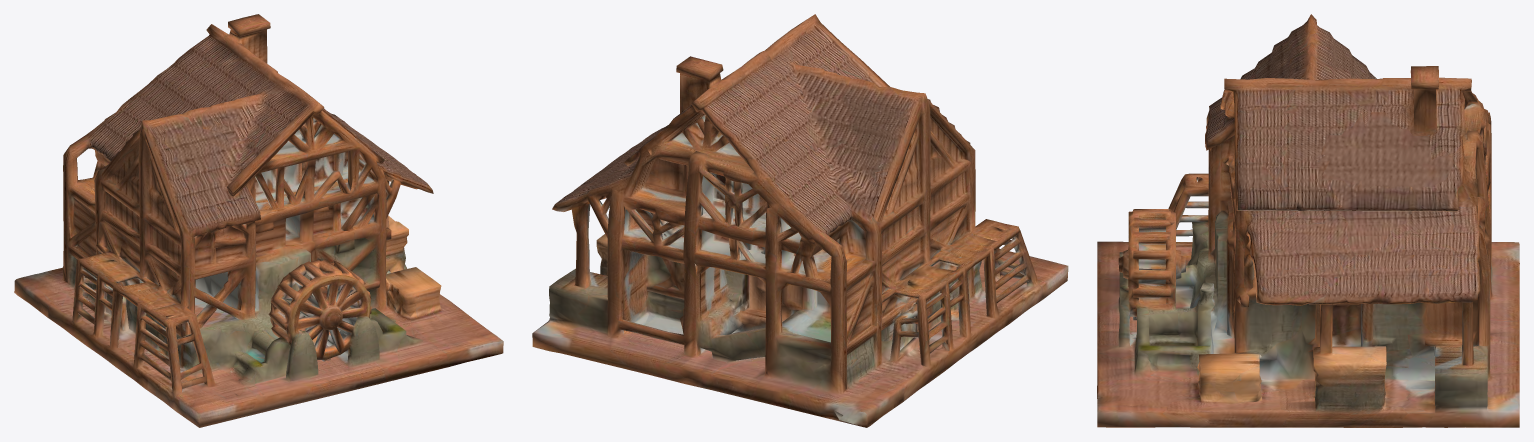
Rendered from lumbercamp.glb.
The picture shows the model from 3 angles, left to right: view 1: azimuth 30°, elevation 25°; view 2: azimuth 150°, elevation 25°; view 3: azimuth 270°, elevation 25°; orthographic projection. The views are drawn at different scales.
Bounding box in the file's own units: 1.85 × 1.47 × 1.91.
1 material, 1 textured.
